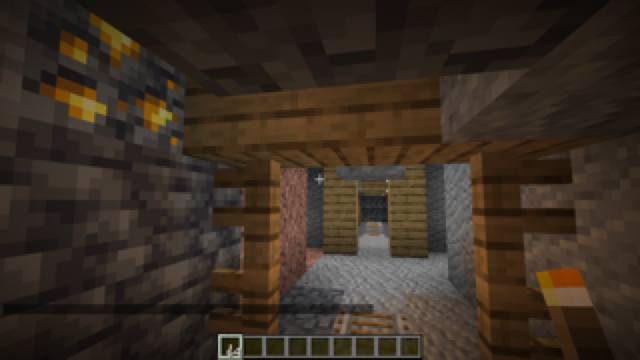gold: (42, 3, 184, 148)
